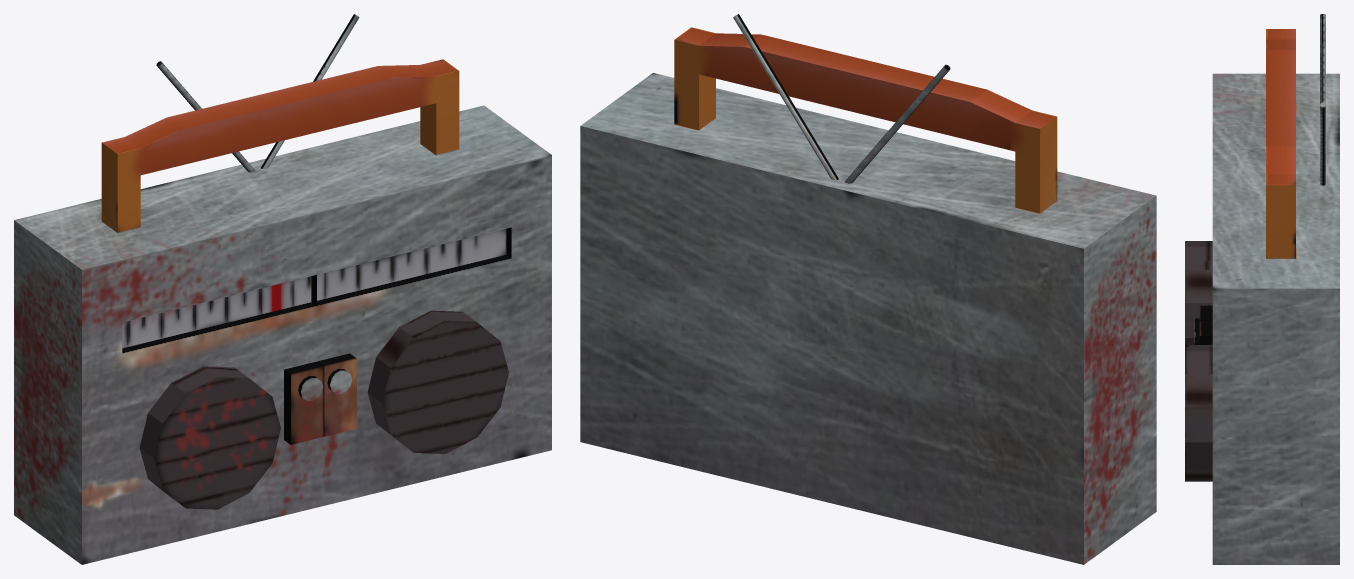
File: Radio.fbx
3 renders of one model, left to right at view 1: azimuth 30°, elevation 25°; view 2: azimuth 150°, elevation 25°; view 3: azimuth 270°, elevation 25°, orthographic. The views are drawn at different scales.
Visible parts, largest first — view 1: Cube; view 2: Cube; view 3: Cube.
Part boxes in pixels (bbox=[...]): Cube: bbox=[14, 14, 551, 564]; Cube: bbox=[580, 14, 1156, 564]; Cube: bbox=[1185, 14, 1339, 564].
Bounding box in the file's own units: 36.01 × 31.22 × 10.96.
